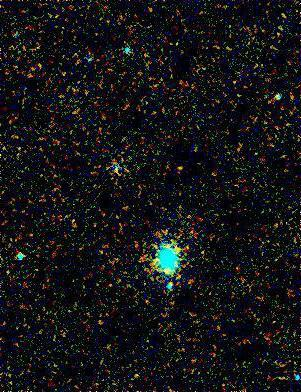star: (169, 156, 199, 186)
